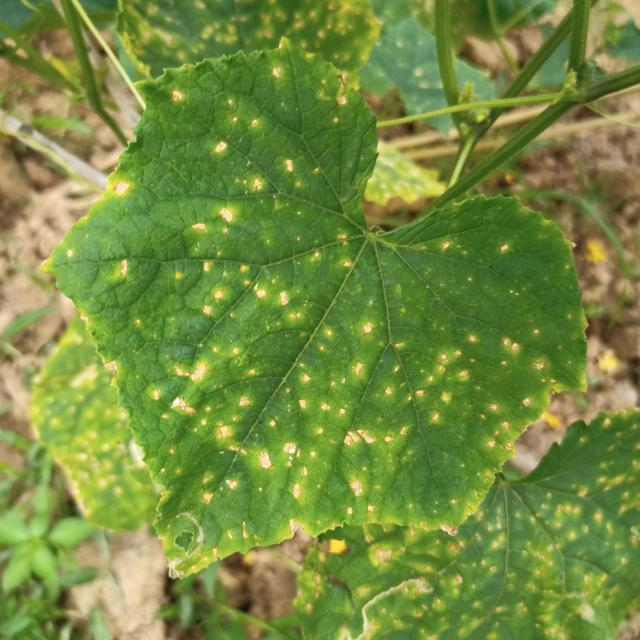disease_cucumber: (87, 254, 585, 550), (167, 68, 351, 250), (110, 178, 131, 197)
